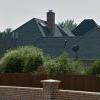Chimney: (41, 7, 67, 43)
